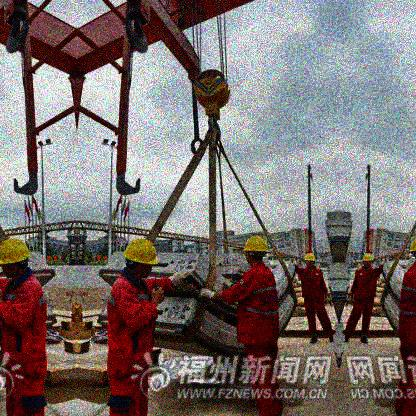helmet: (123, 239, 160, 281), (1, 239, 30, 279), (242, 236, 269, 265), (304, 253, 315, 269), (363, 253, 374, 268)
